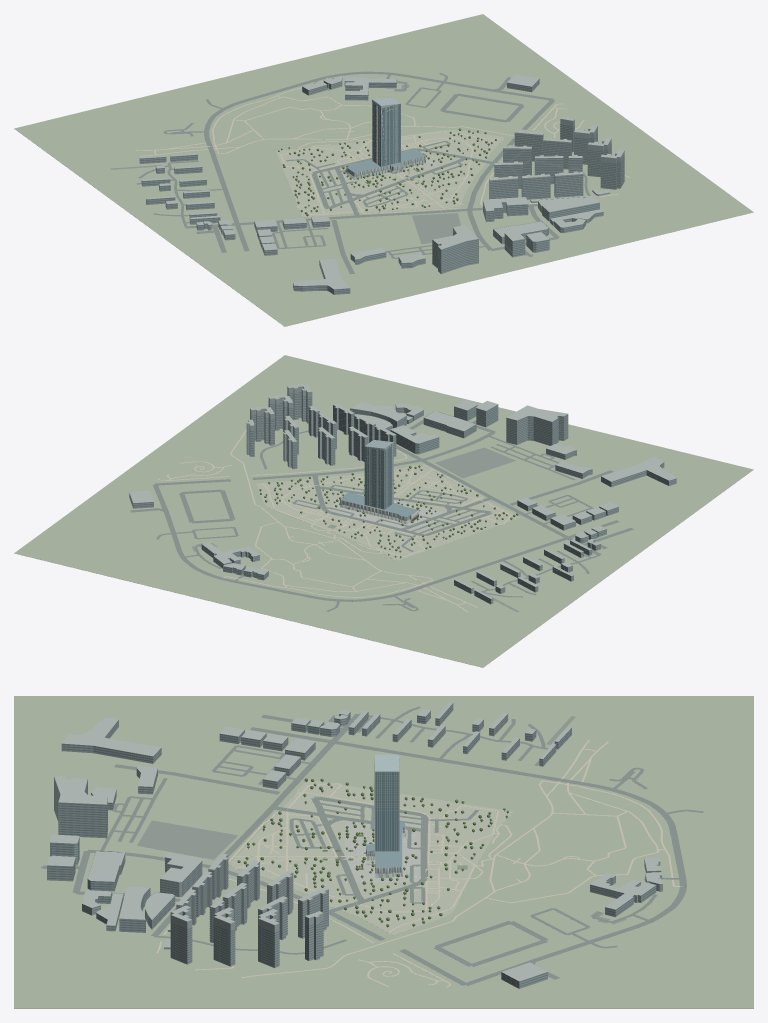
The model's file is bitgaram-kepco.glb.
3 views of the same model, one above another, from view 1: azimuth 30°, elevation 25°; view 2: azimuth 150°, elevation 25°; view 3: azimuth 270°, elevation 25° (orthographic). The views are drawn at different scales.
Parts seen in each view (by area): view 1: campus_context_ground, ground_floor_campus, central_tower, campus_context_building_988993453, campus_mapped_parking.001, upper_building_envelope, campus_context_building_907022700, campus_context_roof_549649362, campus_context_building_907022704, campus_context_building_907022705, campus_context_building_907022701, campus_context_building_907022706 (+2 smaller); view 2: campus_context_ground, ground_floor_campus, central_tower, campus_context_building_988993453, campus_mapped_parking.001, ground_floor_plaza, upper_building_envelope, campus_context_roof_549649362, campus_context_building_907022702, campus_context_building_907022700, campus_context_building_907022701, campus_context_building_549929001; view 3: campus_context_ground, ground_floor_campus, ground_floor_plaza, campus_mapped_parking.001, central_tower, campus_context_building_988993453, campus_context_roof_549649362, campus_context_building_907022700, campus_context_building_907022702, campus_context_building_907022701, campus_context_roof_988993453, campus_context_roof_988993440 (+14 smaller).
Part boxes in pixels (box(x1,y1,x2,y2)): campus_context_ground: box(14, 14, 753, 326); ground_floor_campus: box(275, 130, 504, 217); central_tower: box(372, 102, 400, 166); campus_context_building_988993453: box(432, 228, 478, 274); campus_mapped_parking.001: box(412, 213, 460, 243); upper_building_envelope: box(346, 149, 425, 176); campus_context_building_907022700: box(600, 151, 624, 189); campus_context_roof_549649362: box(293, 259, 349, 289); campus_context_building_907022704: box(554, 174, 583, 197); campus_context_building_907022705: box(521, 175, 550, 199); campus_context_building_907022701: box(587, 139, 611, 177); campus_context_building_907022706: box(489, 178, 518, 198); campus_context_ground: box(14, 355, 753, 667); ground_floor_campus: box(256, 465, 520, 560); central_tower: box(364, 445, 393, 509); campus_context_building_988993453: box(506, 414, 568, 445); campus_mapped_parking.001: box(435, 447, 516, 478); ground_floor_plaza: box(327, 490, 443, 532); upper_building_envelope: box(340, 492, 418, 520); campus_context_roof_549649362: box(601, 456, 676, 481); campus_context_building_907022702: box(250, 408, 274, 445); campus_context_building_907022700: box(287, 386, 312, 423); campus_context_building_907022701: box(268, 397, 293, 431); campus_context_building_549929001: box(390, 430, 439, 454); campus_context_ground: box(14, 696, 753, 1008); ground_floor_campus: box(230, 779, 513, 935); ground_floor_plaza: box(345, 821, 420, 882); campus_mapped_parking.001: box(137, 820, 237, 859); central_tower: box(375, 771, 399, 851); campus_context_building_988993453: box(54, 777, 107, 838); campus_context_roof_549649362: box(62, 717, 161, 756); campus_context_building_907022700: box(170, 907, 192, 964); campus_context_building_907022702: box(258, 911, 279, 967); campus_context_building_907022701: box(213, 909, 235, 966); campus_context_roof_988993453: box(54, 776, 107, 804); campus_context_roof_988993440: box(88, 851, 124, 881).
Bounding box in the file's own units: 1150 × 161 × 1150.
